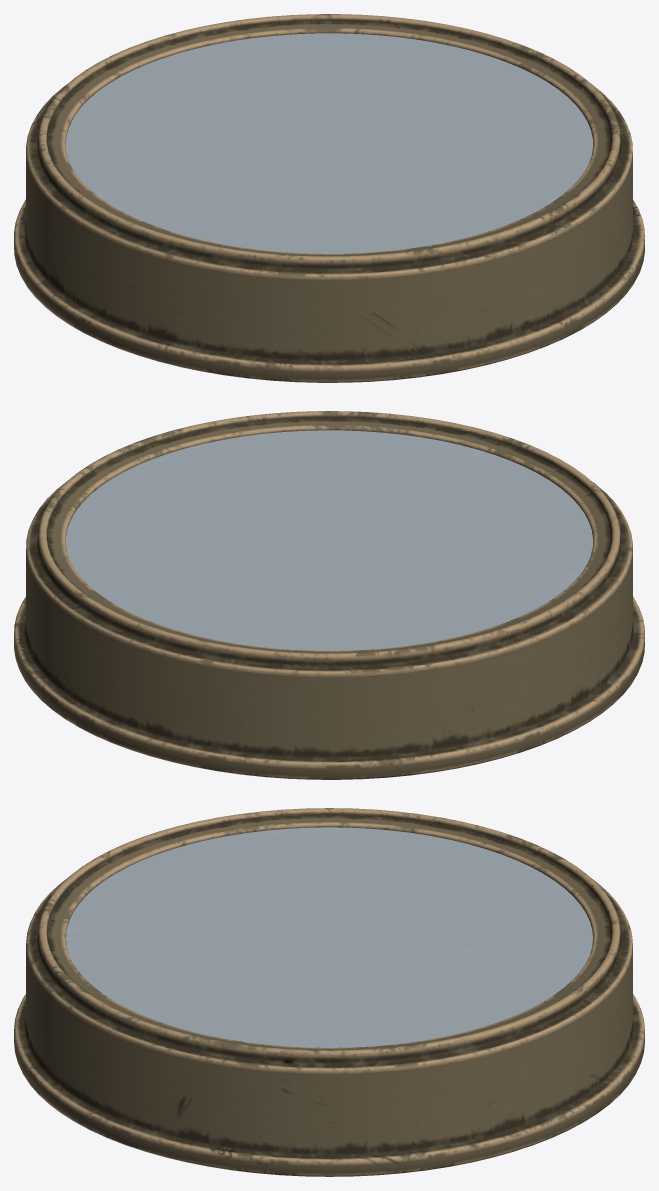
The model's file is Bussola2.fbx.
3 renders of one model, top to bottom at view 1: azimuth 30°, elevation 25°; view 2: azimuth 150°, elevation 25°; view 3: azimuth 270°, elevation 25°, orthographic.
Visible parts, largest first — view 1: defaultMaterial, defaultMaterial.001; view 2: defaultMaterial, defaultMaterial.001; view 3: defaultMaterial, defaultMaterial.001.
Part boxes in pixels (bbox=[...]): defaultMaterial: bbox=[14, 14, 644, 382]; defaultMaterial.001: bbox=[66, 33, 592, 253]; defaultMaterial: bbox=[14, 411, 644, 779]; defaultMaterial.001: bbox=[66, 430, 592, 650]; defaultMaterial: bbox=[14, 808, 644, 1176]; defaultMaterial.001: bbox=[66, 827, 592, 1047].
Size of the model in its own units: 10.01 by 10.01 by 2.01.
